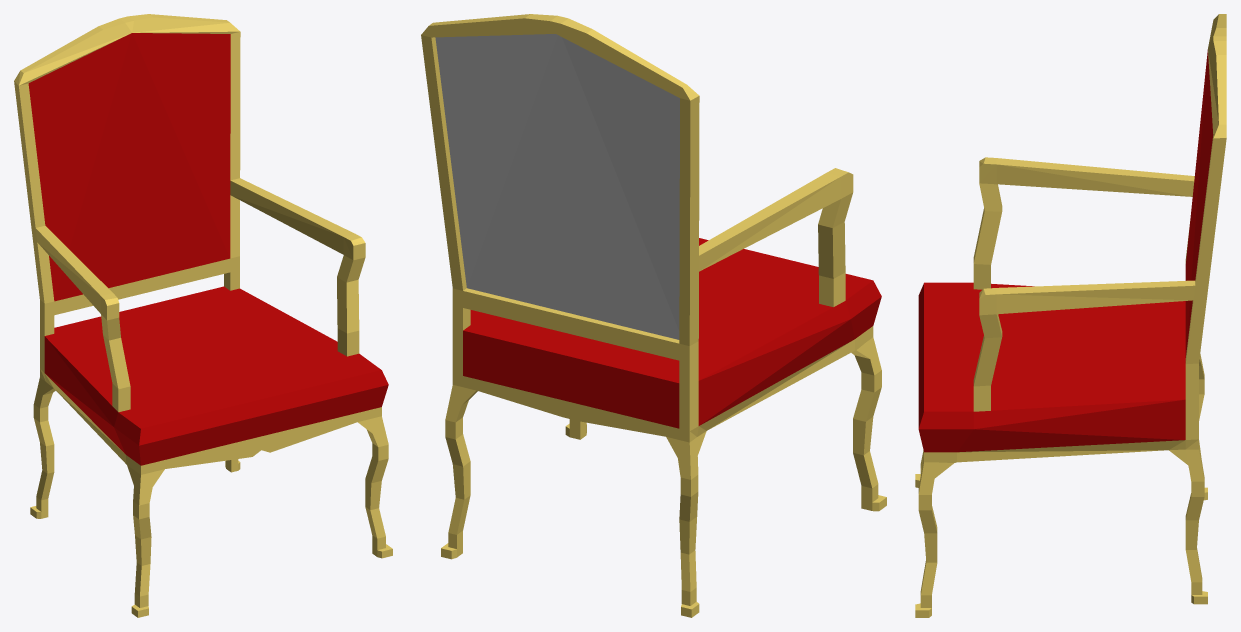
File: sweethome3d-contributions-armchair-364.glb
3 renders of one model, left to right at view 1: azimuth 30°, elevation 25°; view 2: azimuth 150°, elevation 25°; view 3: azimuth 270°, elevation 25°, orthographic. The views are drawn at different scales.
Visible parts, largest first — view 1: 6_6_6, 2_2_2, 1_1_1; view 2: 5_5_5, 1_1_1, 2_2_2; view 3: 2_2_2, 1_1_1, 6_6_6.
Boxes of the visible parts, x1,y1,x2,y2 form: 6_6_6: (28,33,230,301); 2_2_2: (44,286,388,465); 1_1_1: (14,14,392,617); 5_5_5: (435,34,679,339); 1_1_1: (421,14,886,617); 2_2_2: (463,238,881,428); 2_2_2: (918,282,1185,452); 1_1_1: (915,14,1226,617); 6_6_6: (1185,49,1213,357).
Size of the model in its own units: 61 by 105 by 58.
